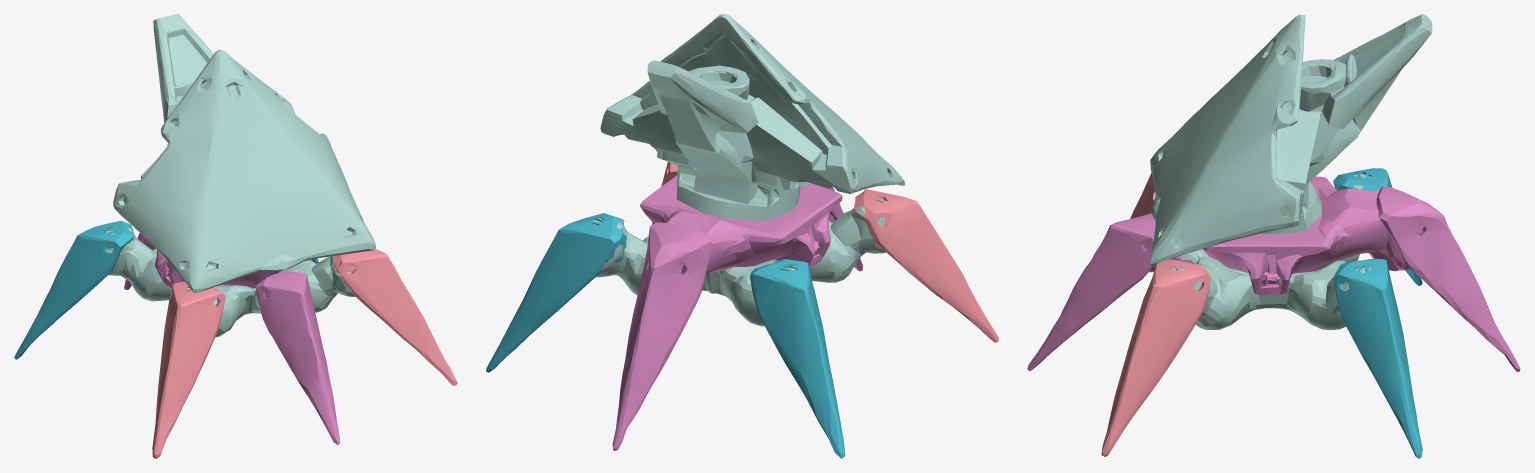
The picture shows the model from 3 angles, left to right: view 1: azimuth 30°, elevation 25°; view 2: azimuth 150°, elevation 25°; view 3: azimuth 270°, elevation 25°; orthographic projection. The views are drawn at different scales.
Parts seen in each view (by area): view 1: root.0, root.1, root.2, root.3, root.4; view 2: root.0, root.1, root.4, root.5, root.2; view 3: root.0, root.1, root.3, root.5, root.4, root.2.
Boxes of the visible parts, x1,y1,x2,y2 form: root.0: (105, 14, 375, 337); root.1: (124, 233, 340, 444); root.2: (152, 282, 225, 458); root.3: (333, 249, 457, 385); root.4: (14, 221, 133, 359); root.0: (591, 14, 904, 326); root.1: (612, 175, 862, 450); root.4: (750, 258, 845, 458); root.5: (486, 213, 626, 372); root.2: (854, 189, 998, 342); root.0: (1150, 14, 1432, 330); root.1: (1027, 176, 1520, 371); root.3: (1101, 259, 1210, 456); root.5: (1333, 258, 1422, 458); root.4: (1333, 168, 1422, 286); root.2: (1130, 173, 1155, 218).
Size of the model in its own units: 152 by 145 by 181.
